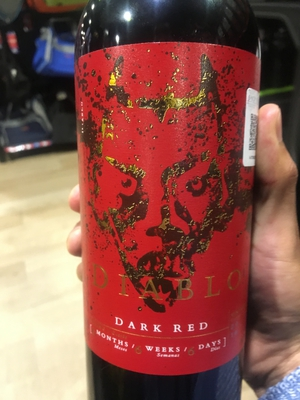diablo dark red: (71, 13, 271, 400)
